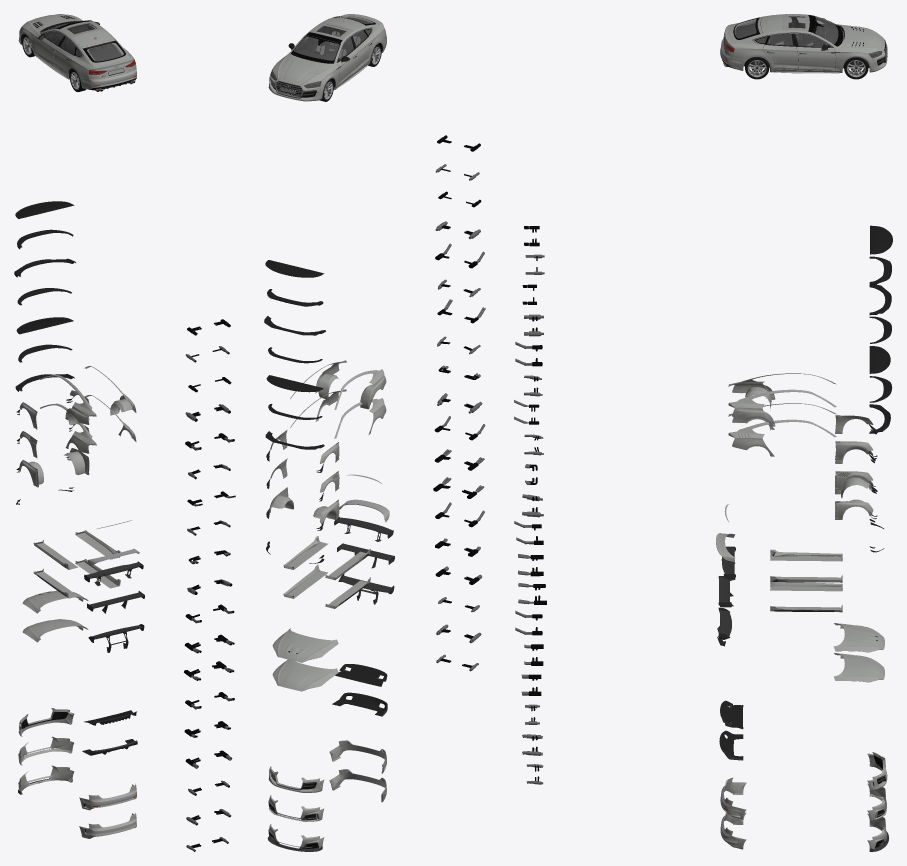
3 renders of one model, left to right at view 1: azimuth 30°, elevation 25°; view 2: azimuth 150°, elevation 25°; view 3: azimuth 270°, elevation 25°, orthographic. The views are drawn at different scales.
Parts seen in each view (by area): view 1: body_shell, trunk, wings_rear_2, skirts_2, wings_front_4, skirts_3, wings_rear_3, wings_rear_1, bonnet_1, bumper_rear_2, bumper_rear_3, bonnet_2 (+10 smaller); view 2: body_shell, bonnet_2, bonnet_3, bonnet_1, wings_rear_2, skirts_2, skirts_3, diffuser_rear_2, glass_front, wings_front_4, wings_rear_3, diffuser_rear_3 (+12 smaller); view 3: body_shell, wings_rear_2, wings_rear_3, skirts_2, bonnet_3, bonnet_1, bonnet_2, skirts_3, wings_rear_1, door_front_right, door_rear_right, wings_front_4 (+1 smaller).
Boxes of the visible parts, x1,y1,x2,y2 form: body_shell: (20, 20, 121, 78); trunk: (81, 39, 132, 78); wings_rear_2: (40, 366, 136, 425); skirts_2: (33, 530, 120, 569); wings_front_4: (19, 448, 89, 487); skirts_3: (33, 559, 120, 598); wings_rear_3: (40, 395, 136, 453); wings_rear_1: (40, 21, 134, 79); bonnet_1: (22, 619, 88, 642); bumper_rear_2: (79, 783, 136, 810); bumper_rear_3: (79, 812, 136, 838); bonnet_2: (22, 14, 82, 37); body_shell: (277, 17, 382, 96); bonnet_2: (272, 52, 338, 86); bonnet_3: (272, 628, 338, 662); bonnet_1: (272, 659, 338, 691); wings_rear_2: (290, 360, 386, 409); skirts_2: (283, 536, 370, 579); skirts_3: (283, 564, 370, 608); diffuser_rear_2: (335, 664, 387, 686); glass_front: (294, 36, 339, 60); wings_front_4: (269, 487, 339, 524); wings_rear_3: (290, 389, 386, 438); diffuser_rear_3: (332, 692, 387, 716); body_shell: (735, 14, 869, 71); wings_rear_2: (728, 373, 836, 429); wings_rear_3: (728, 403, 836, 456); skirts_2: (770, 549, 842, 582); bonnet_3: (833, 623, 884, 652); bonnet_1: (834, 653, 884, 682); bonnet_2: (834, 24, 884, 53); skirts_3: (770, 582, 842, 612); wings_rear_1: (728, 14, 835, 67); door_front_right: (796, 44, 835, 70); door_rear_right: (763, 44, 798, 69); wings_front_4: (835, 475, 873, 519).
Size of what is drawn, in the model's own units: 2.21 by 27.32 by 11.47.
Materials: 31 (2 with a texture image).
